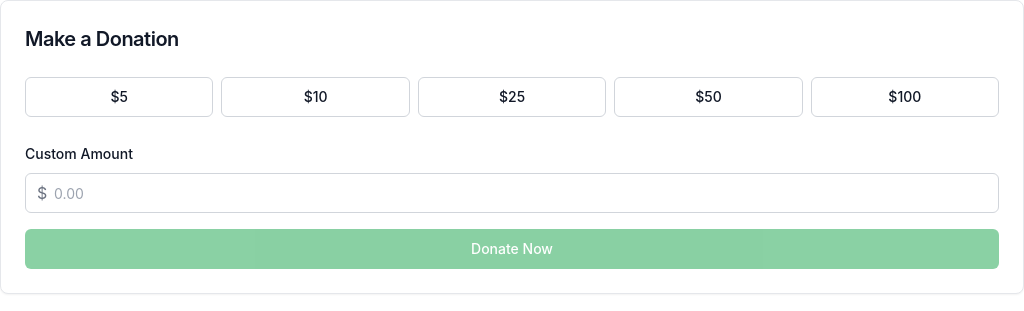
Test case: DonationForm › should show processing state while submitting
Click the button "$25" at (512, 97), box [418, 77, 606, 117]
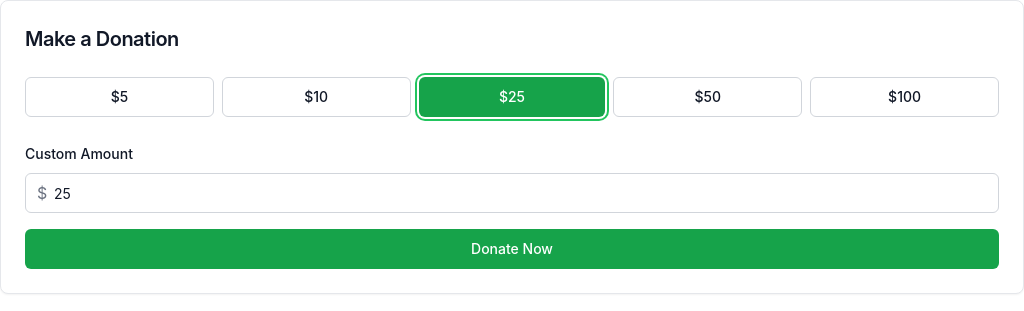
Click the button "Donate Now" at (512, 249), box [25, 229, 999, 269]
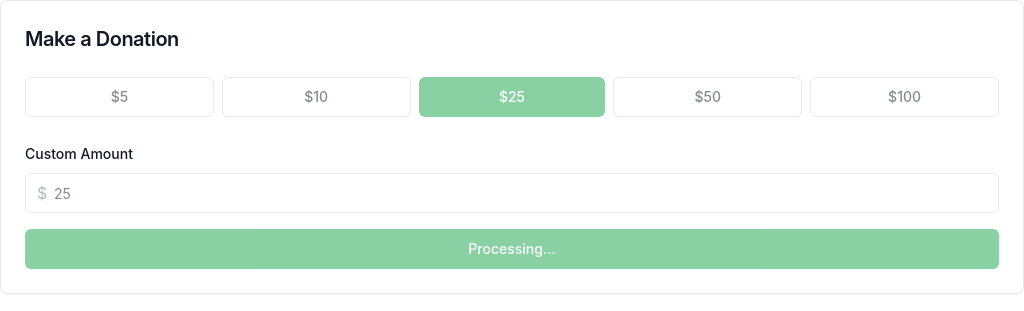
Check: the button "Processing..." is shown, box [25, 229, 999, 269]
